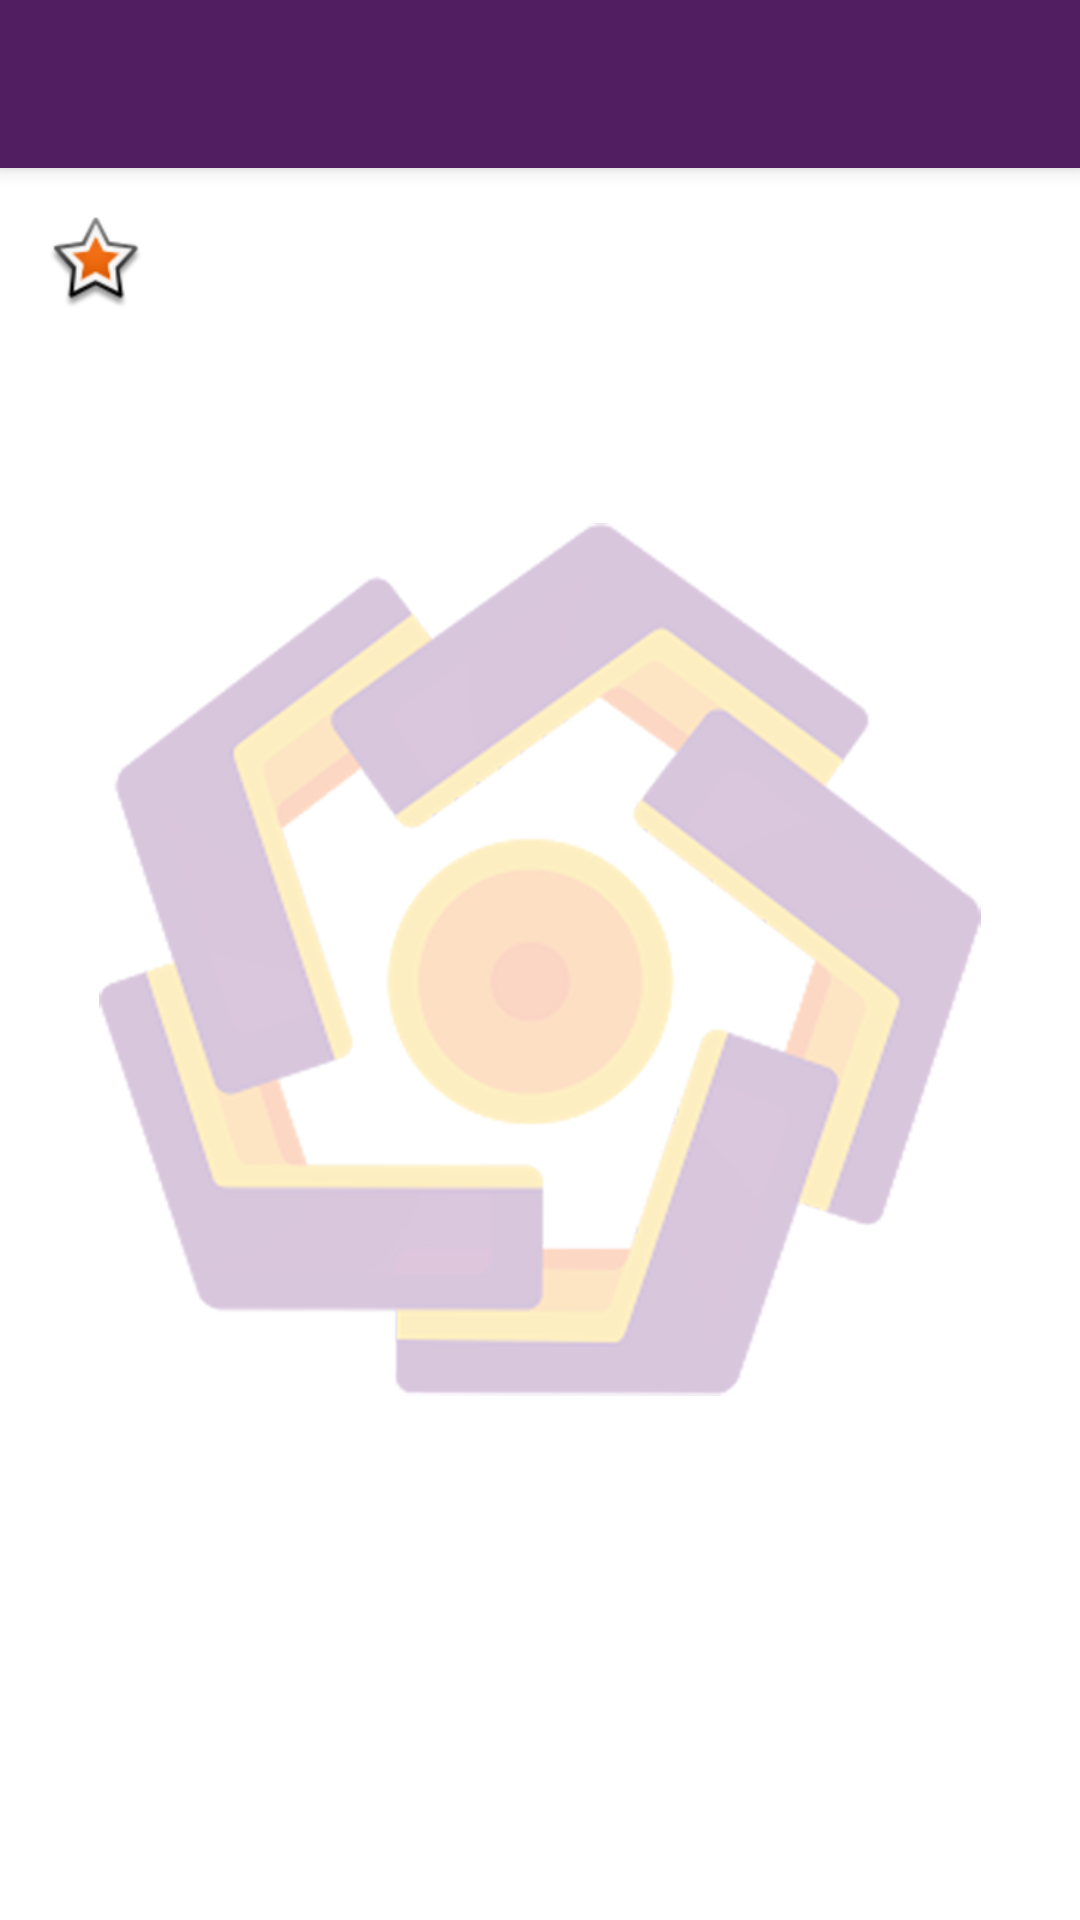

Icon click points for this 1080 x 1920 phone screenshot, format (x,y):
star on: (96,260)
